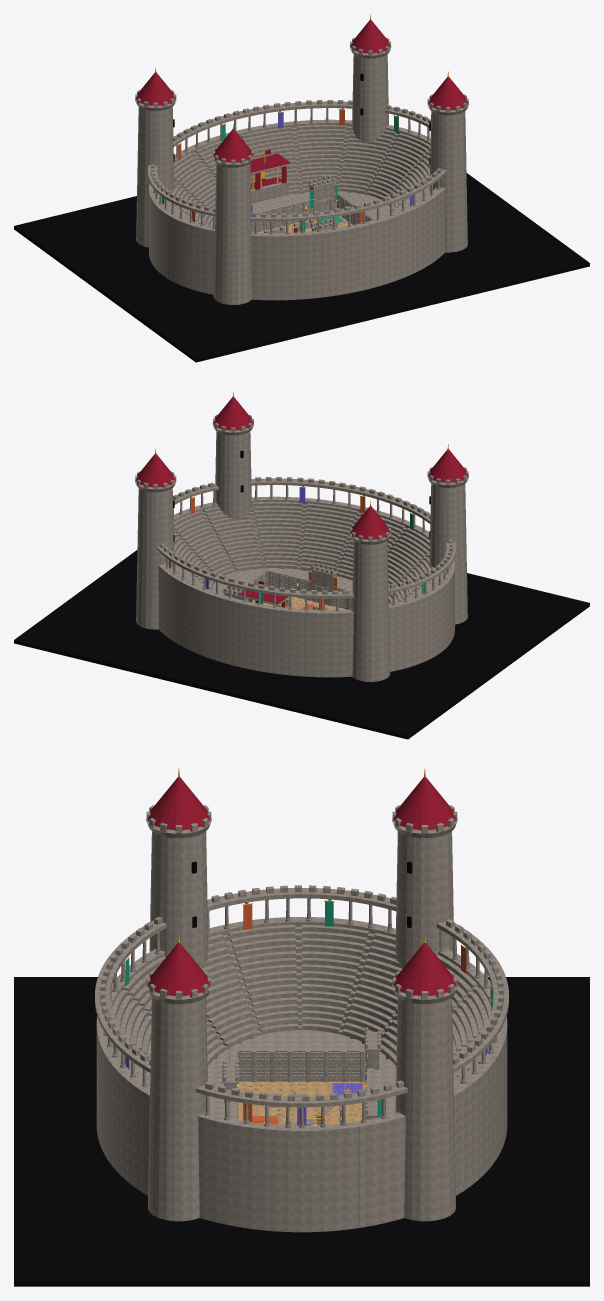
Rendered from arena.glb.
3 renders of one model, top to bottom at view 1: azimuth 30°, elevation 25°; view 2: azimuth 150°, elevation 25°; view 3: azimuth 270°, elevation 25°, orthographic. The views are drawn at different scales.
Visible parts, largest first — view 1: b_hollow, b_stone1, b_stone0, b_stone2, b_capstone, b_cloth_red, b_base1; view 2: b_hollow, b_stone1, b_stone2, b_stone0, b_capstone, b_cloth_red; view 3: b_hollow, b_stone1, b_stone0, b_stone2, b_capstone, b_cloth_red, b_sand, b_base2.
Boxes of the visible parts, x1,y1,x2,y2 form: b_hollow: [14, 73, 589, 362]; b_stone1: [136, 54, 467, 304]; b_stone0: [149, 100, 445, 300]; b_stone2: [149, 108, 443, 300]; b_capstone: [135, 37, 468, 234]; b_cloth_red: [136, 20, 467, 232]; b_base1: [162, 116, 398, 232]; b_hollow: [14, 450, 589, 739]; b_stone1: [136, 431, 467, 681]; b_stone2: [160, 485, 454, 677]; b_stone0: [160, 477, 454, 677]; b_capstone: [135, 414, 468, 611]; b_cloth_red: [136, 397, 467, 607]; b_hollow: [14, 861, 589, 1286]; b_stone1: [96, 831, 507, 1232]; b_stone0: [96, 885, 507, 1232]; b_stone2: [96, 899, 507, 1231]; b_capstone: [95, 805, 508, 1128]; b_cloth_red: [147, 777, 455, 1120]; b_sand: [238, 1079, 366, 1125]; b_base2: [236, 904, 466, 1124].
Bounding box in the file's own units: 120 × 52.05 × 96.
Materials: 13 (5 with a texture image).
